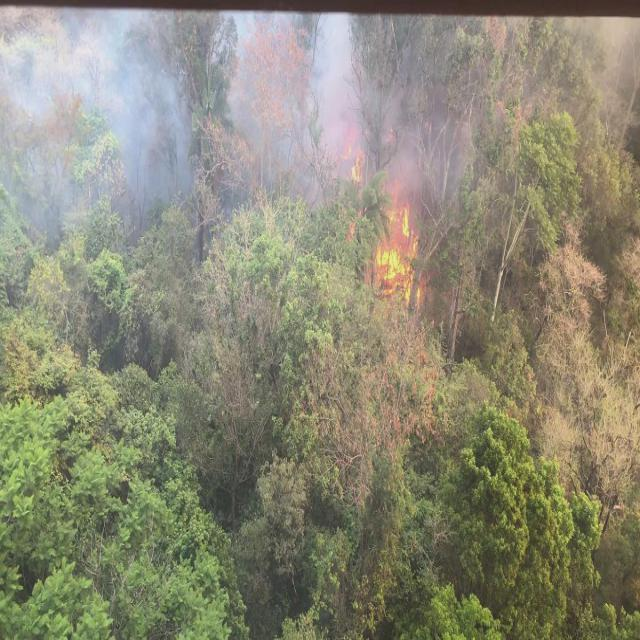Fire: (381, 184, 418, 298), (346, 121, 364, 181)
